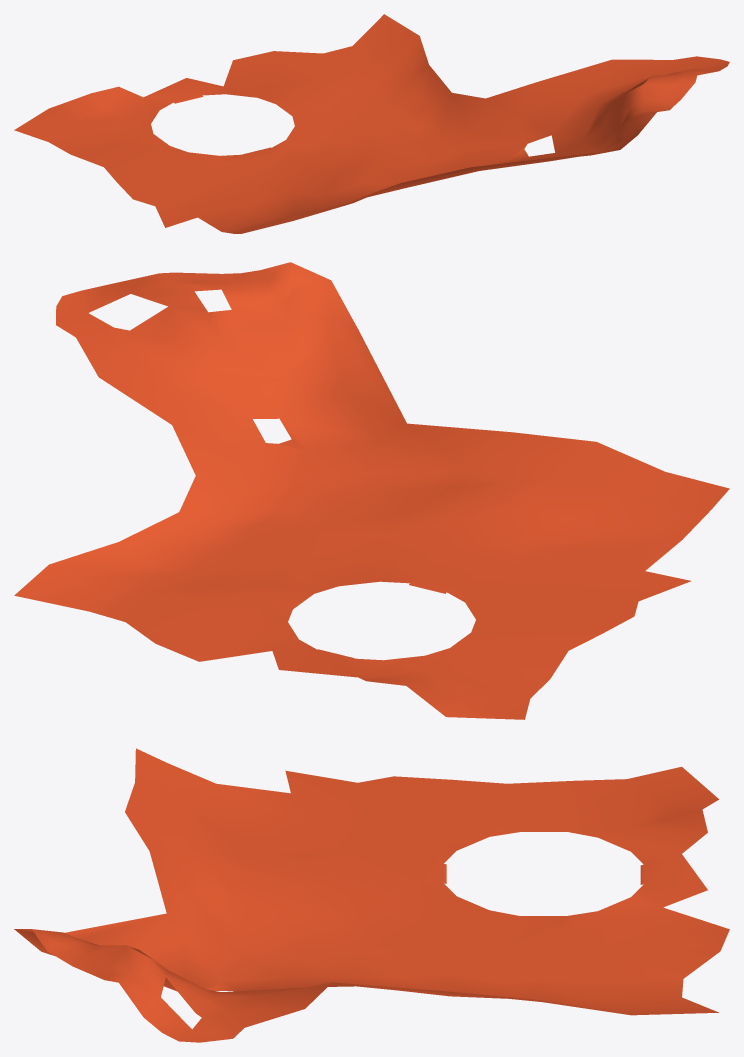
The model's file is cluster_1.fbx.
3 views of the same model, one above another, from view 1: azimuth 30°, elevation 25°; view 2: azimuth 150°, elevation 25°; view 3: azimuth 270°, elevation 25° (orthographic). The views are drawn at different scales.
Parts seen in each view (by area): view 1: cluster_1; view 2: cluster_1; view 3: cluster_1.
Part boxes in pixels (x1,y1,x2,y2): cluster_1: (14,14,729,233); cluster_1: (14,262,729,719); cluster_1: (14,748,729,1042).
Bounding box in the file's own units: 468300 × 72953 × 382809.
